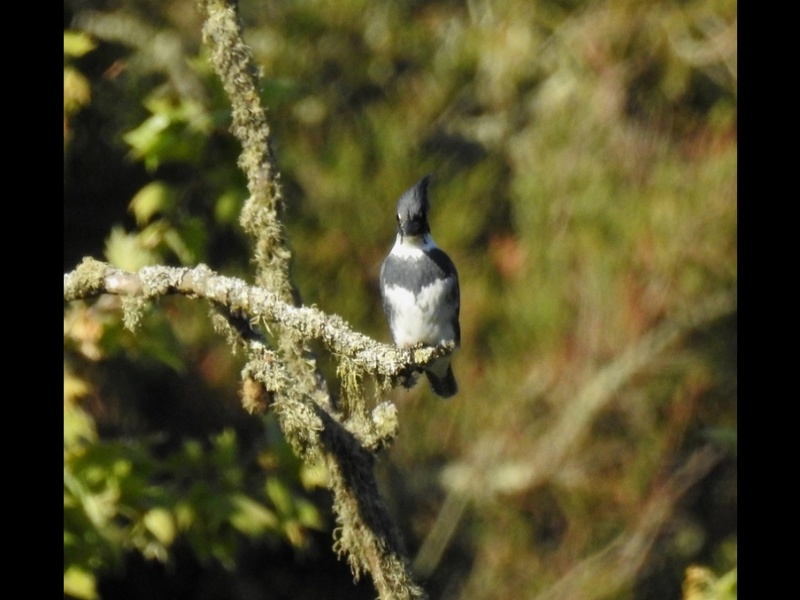kingfisher: (376, 174, 467, 399)
